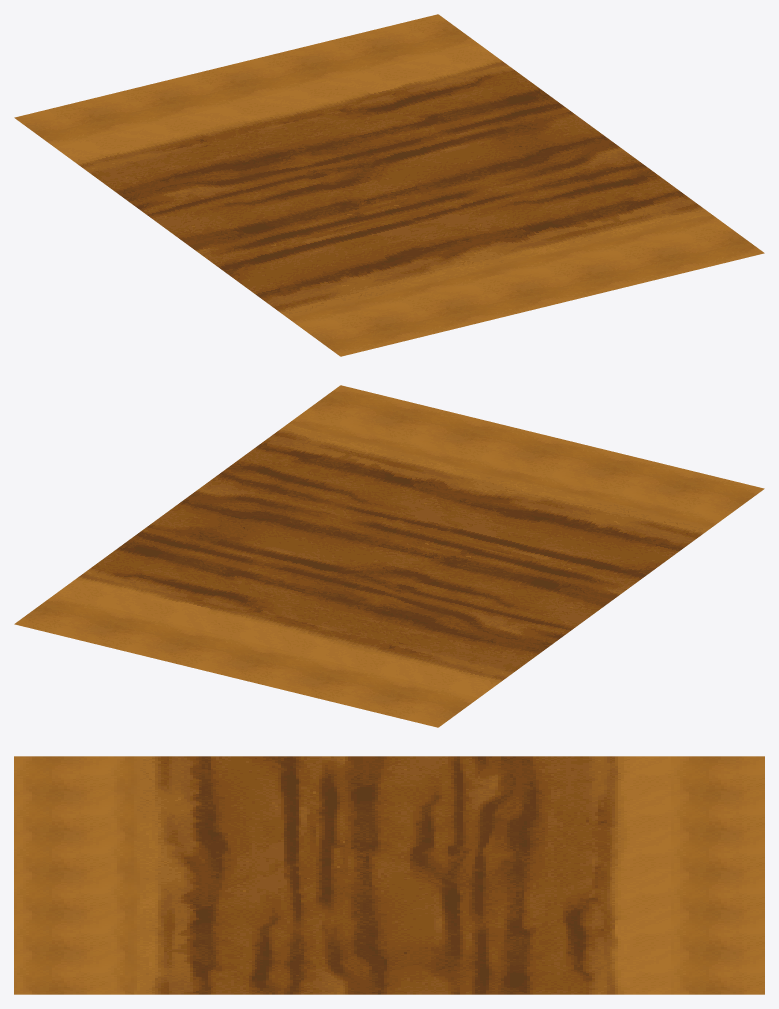
The model's file is SM_AP_CanyonWall_Card_0.glb.
The picture shows the model from 3 angles, top to bottom: view 1: azimuth 30°, elevation 25°; view 2: azimuth 150°, elevation 25°; view 3: azimuth 270°, elevation 25°; orthographic projection. The views are drawn at different scales.
Parts seen in each view (by area): view 1: SM_AP_CanyonWall_Card_0; view 2: SM_AP_CanyonWall_Card_0; view 3: SM_AP_CanyonWall_Card_0.
Boxes of the visible parts, x1,y1,x2,y2 form: SM_AP_CanyonWall_Card_0: (14,14,764,356); SM_AP_CanyonWall_Card_0: (14,385,764,727); SM_AP_CanyonWall_Card_0: (14,756,764,994).
Size of the model in its own units: 24 by 1.27e-05 by 32.
Materials: 1 (1 with a texture image).
